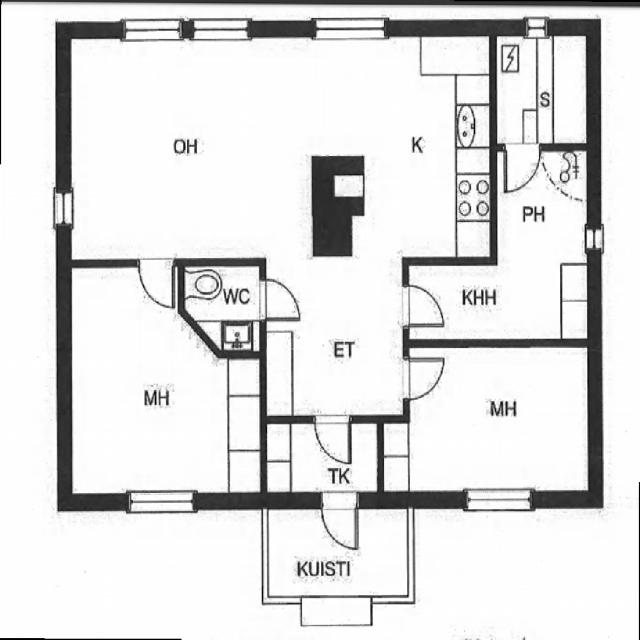door: (395, 350, 449, 404), (318, 490, 362, 554), (252, 272, 306, 324), (398, 279, 449, 333), (133, 254, 178, 313), (310, 410, 356, 466), (500, 139, 543, 198)
window: (120, 480, 203, 521), (308, 11, 392, 49), (457, 480, 539, 518), (115, 13, 185, 49), (186, 10, 254, 46), (48, 184, 76, 234), (520, 13, 552, 40), (582, 224, 608, 256)
zone: (61, 35, 316, 263), (63, 267, 248, 503), (353, 31, 493, 260), (393, 342, 596, 498), (263, 256, 408, 420), (494, 151, 592, 341), (260, 506, 415, 601), (495, 32, 590, 146), (262, 420, 374, 502), (180, 262, 265, 352)
